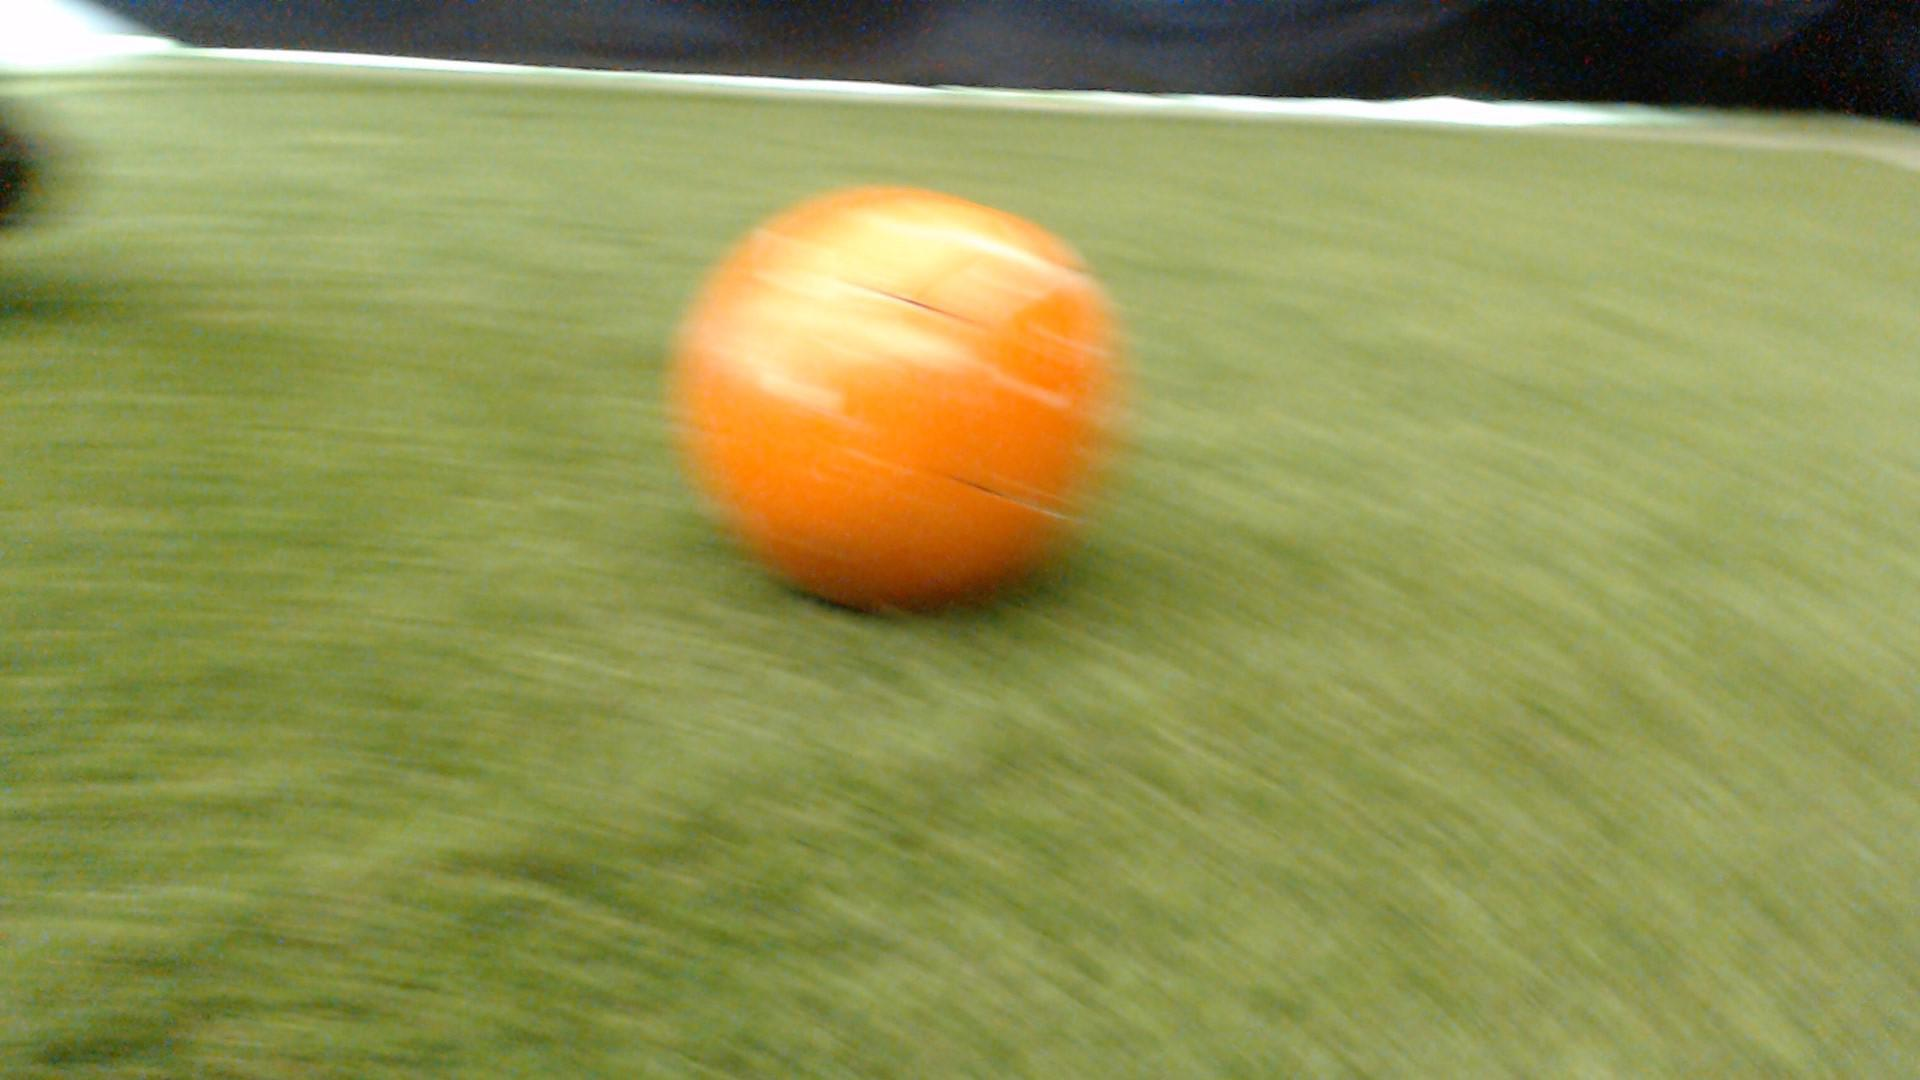bola: (621, 175, 1187, 673)
